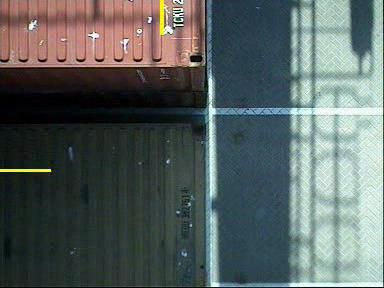groundmarker_2: (1, 45, 105, 132)
